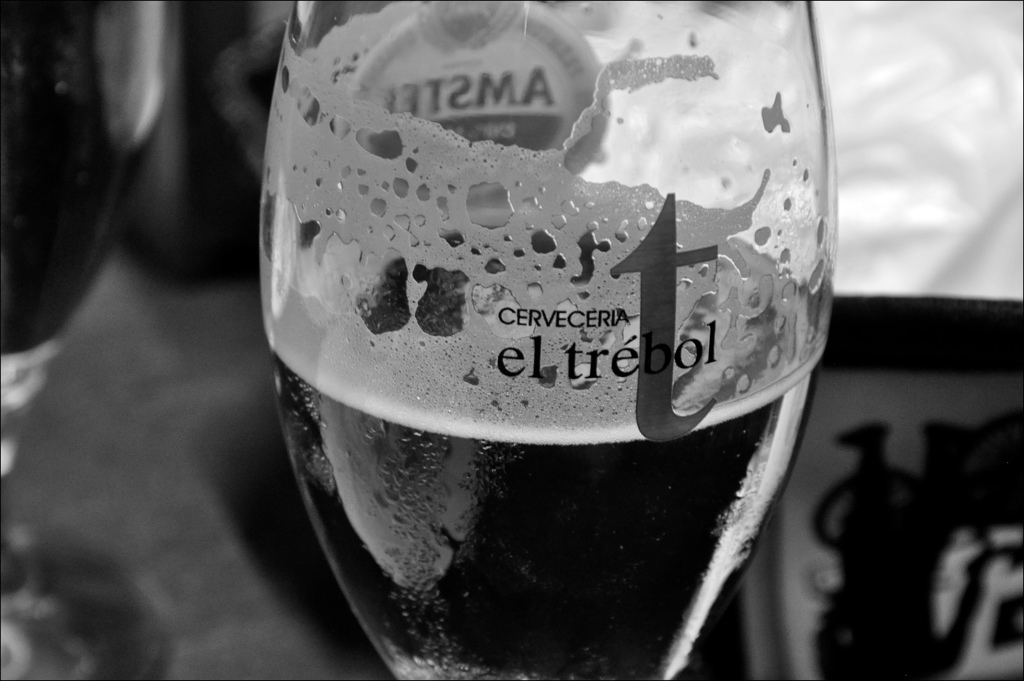Beer: (267, 213, 816, 680)
